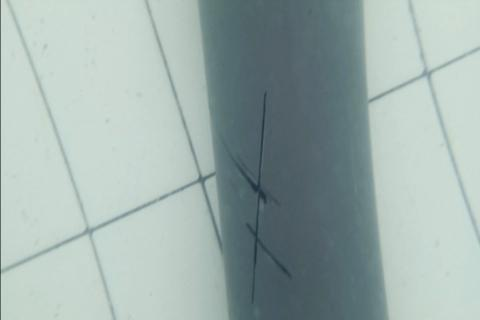keretakan: (221, 89, 294, 307)
